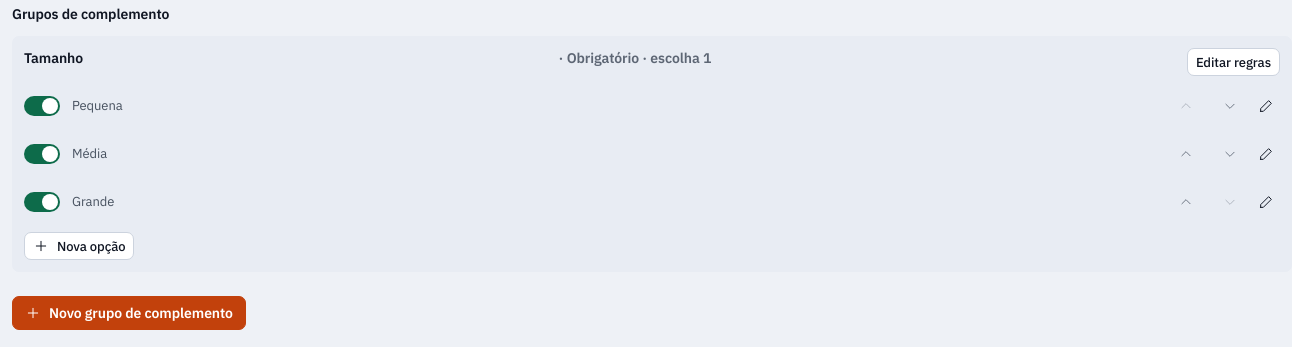
Scenario: reordenar as opções › a lista muda de ordem na hora, sem esperar a gravação
Click the button with test id "opcao-descer-o-0" at coordinates (1230, 106), box x1=1208 y1=84 x2=1252 y2=128
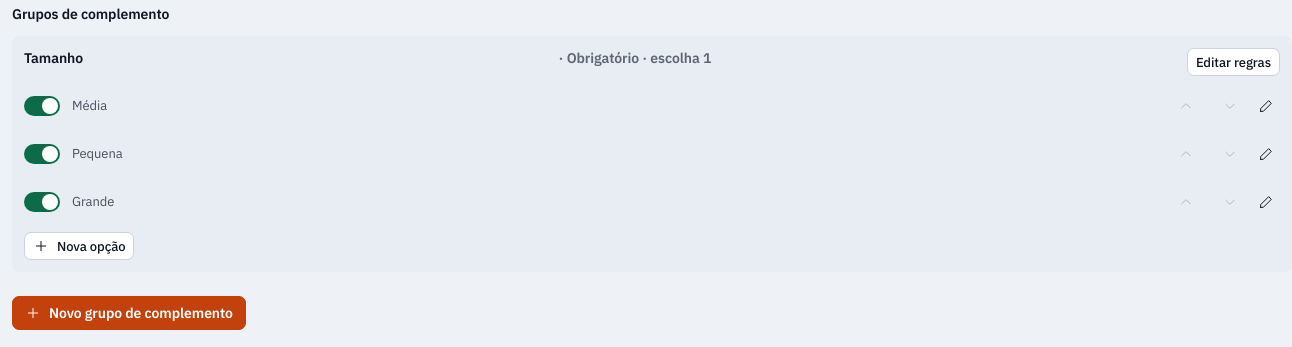
Expected: the elements with test id "^opcao-nome-" read "Média", "Pequena", "Grande", in this order, x1=72 y1=97 x2=107 y2=114; x1=72 y1=145 x2=123 y2=162; x1=72 y1=193 x2=114 y2=210
